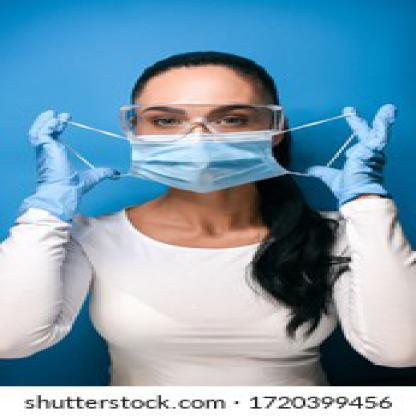Gloves: (16, 110, 121, 223), (308, 104, 400, 201)
